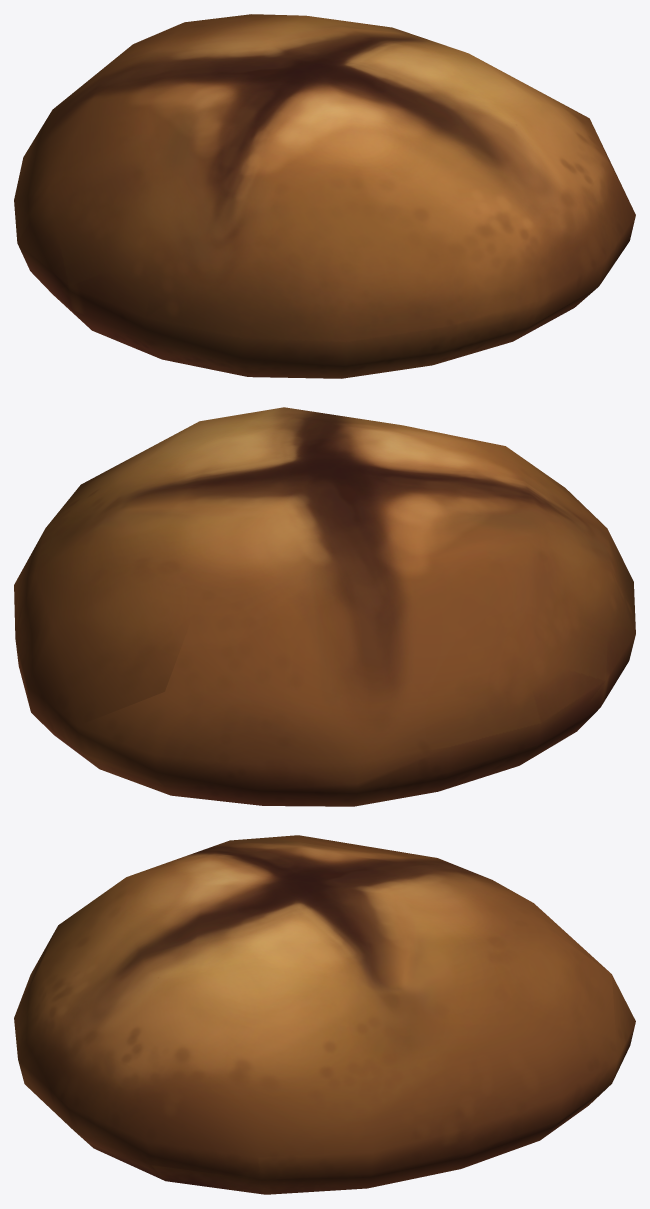
Rendered from Pan.fbx.
3 renders of one model, top to bottom at view 1: azimuth 30°, elevation 25°; view 2: azimuth 150°, elevation 25°; view 3: azimuth 270°, elevation 25°, orthographic. The views are drawn at different scales.
Visible parts, largest first — view 1: Object_4; view 2: Object_4; view 3: Object_4.
Boxes of the visible parts, box(x1,y1,x2,y2) form: Object_4: box(14, 14, 635, 378); Object_4: box(14, 407, 635, 806); Object_4: box(14, 835, 635, 1194).
Bounding box in the file's own units: 186 × 69.97 × 196.
Materials: 1 (1 with a texture image).
